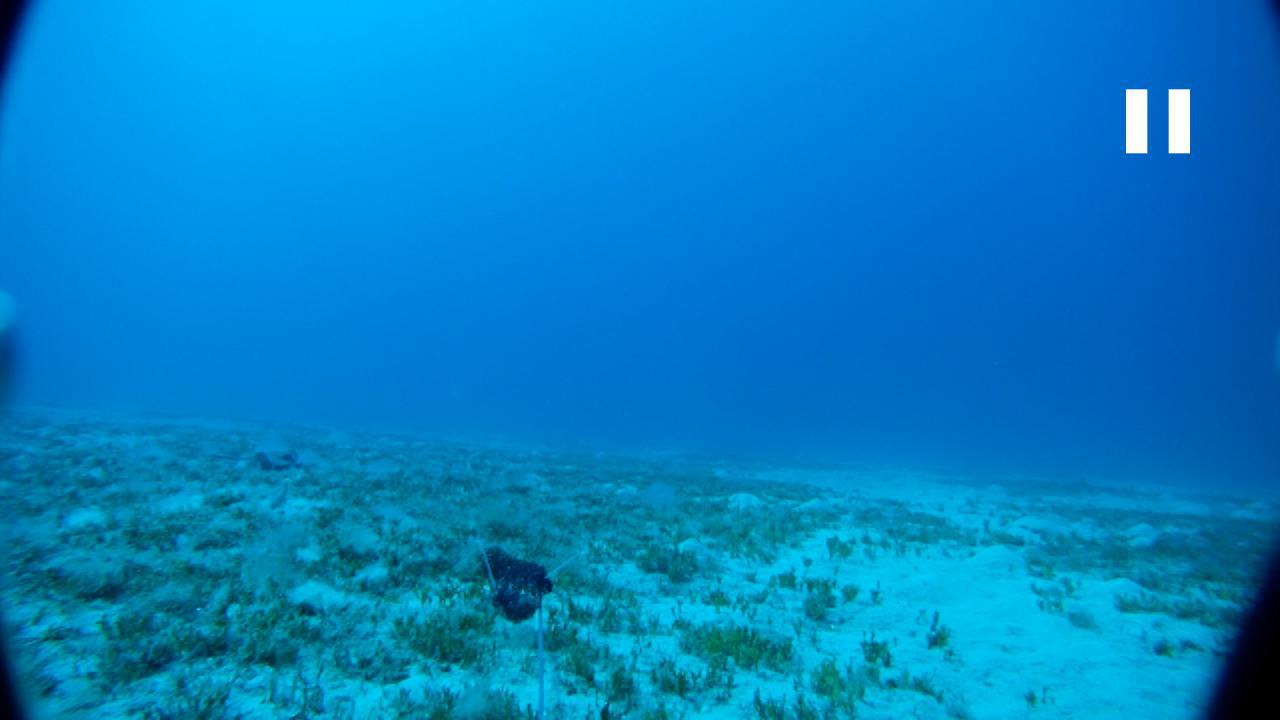dasyatis: (204, 449, 300, 467)
